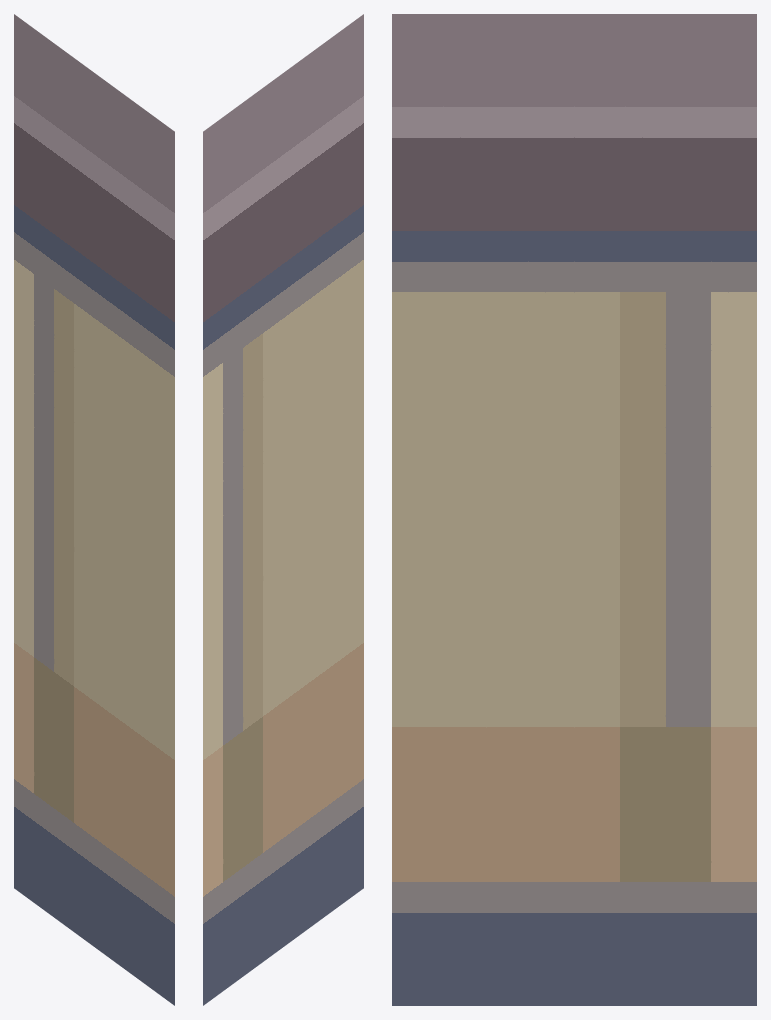
3 renders of one model, left to right at view 1: azimuth 30°, elevation 25°; view 2: azimuth 150°, elevation 25°; view 3: azimuth 270°, elevation 25°, orthographic. The views are drawn at different scales.
Size of the model in its own units: 0 by 3 by 1.
1 material, 1 textured.
